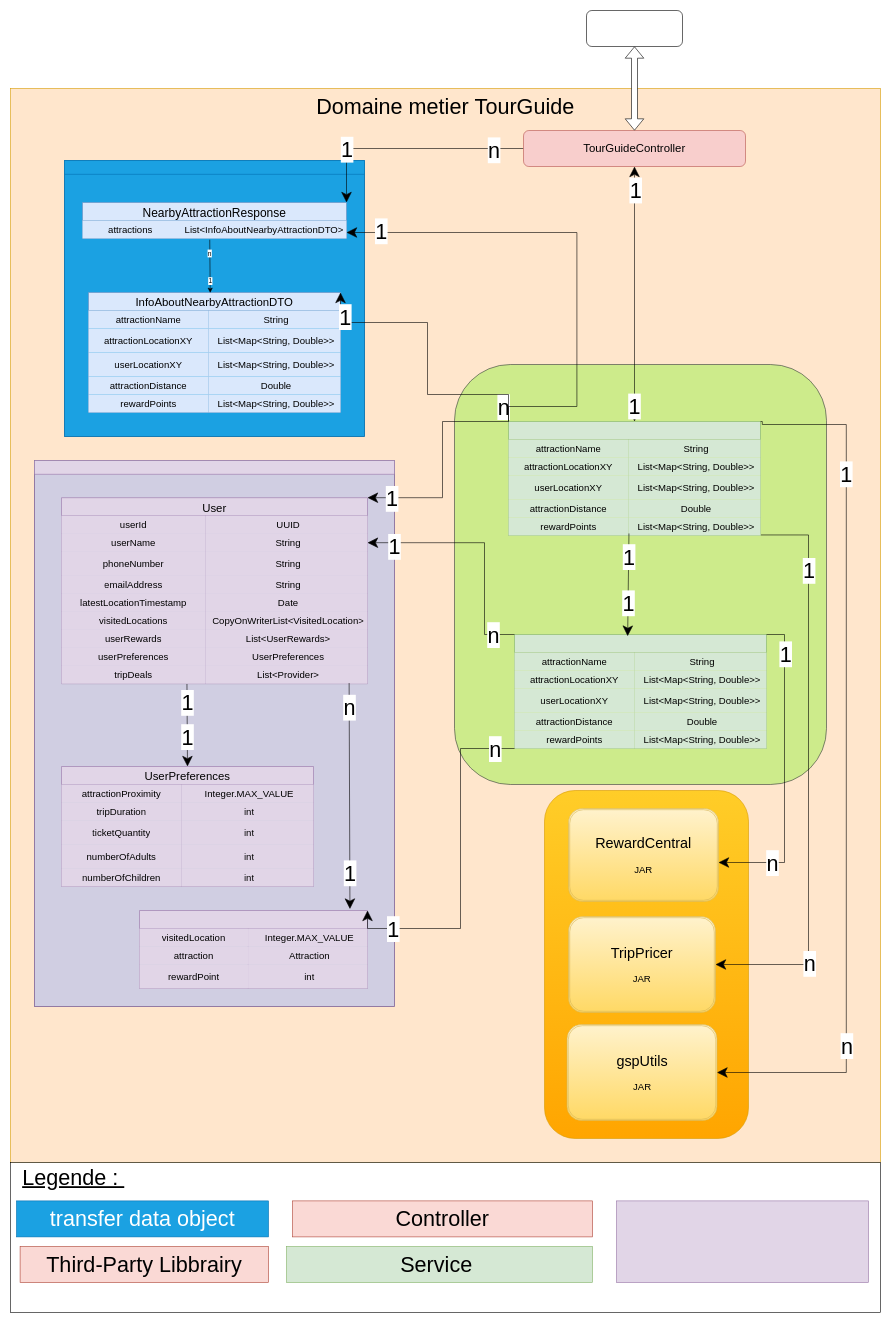
Some shapes in this 891 by 1323 pixel diagram are drawn without their labels. Here are the shapes that lost their labels. From the top down, the box of each, then its label:
(586, 10, 682, 46): Http Request
(508, 421, 760, 536): TourGuideService
(514, 634, 766, 748): RewardsService
(139, 910, 368, 988): UserReward
(616, 1200, 868, 1282): Model USER and its objects
